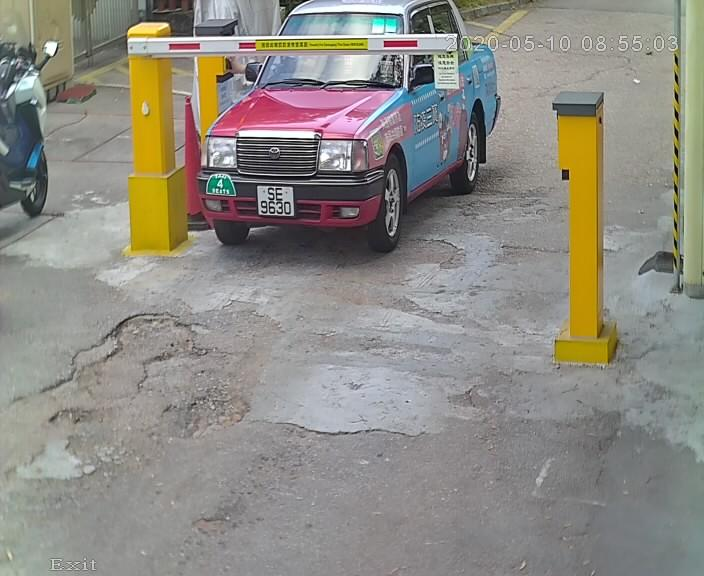Car: (181, 1, 505, 255)
License Plate: (247, 178, 305, 227)
